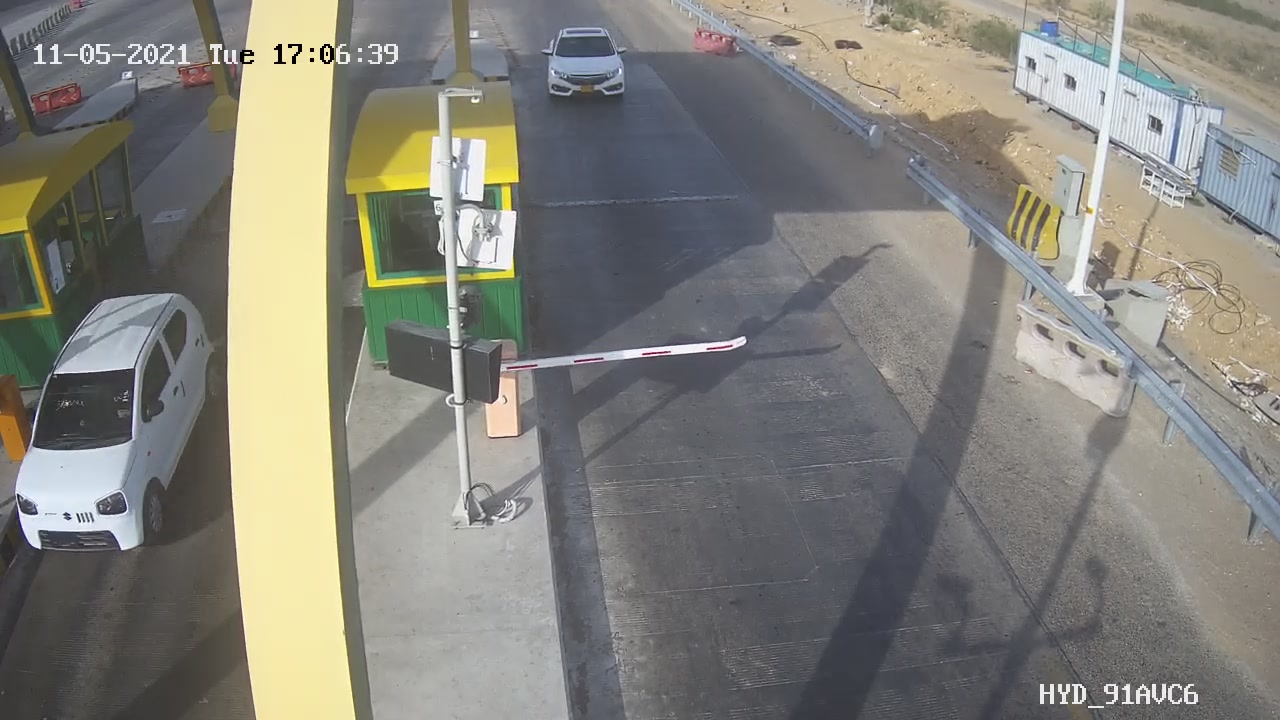F1: (531, 13, 643, 111)
